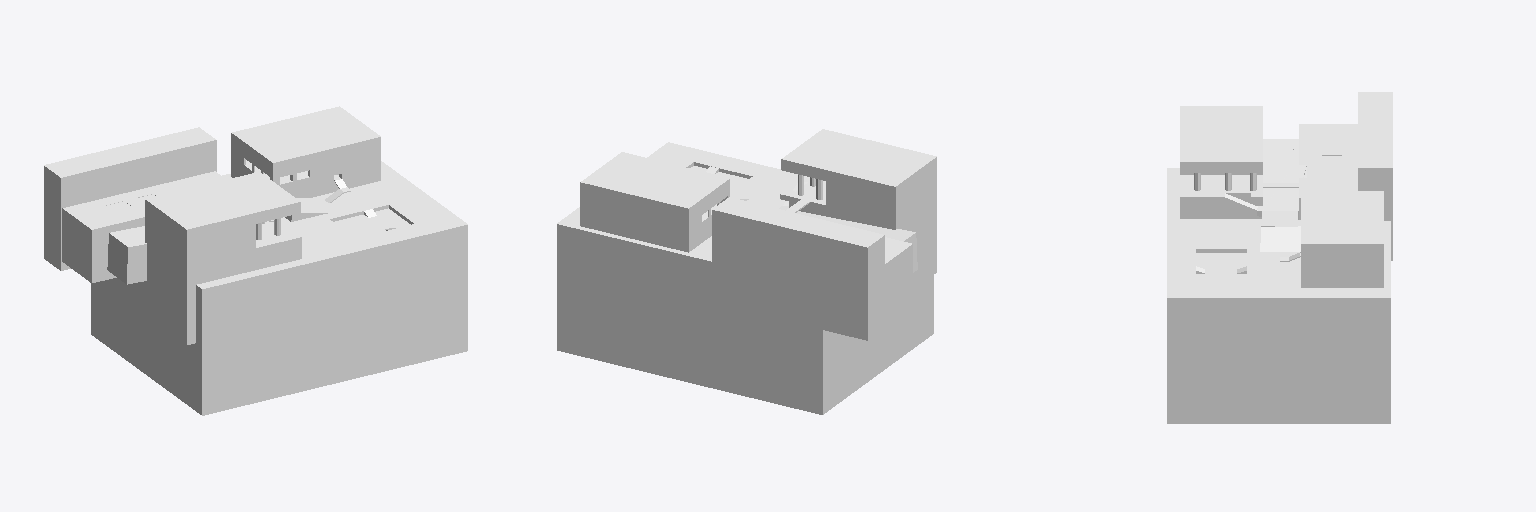
Rendered from CSGCombiner.obj.
The picture shows the model from 3 angles: view 1: azimuth 30°, elevation 25°; view 2: azimuth 150°, elevation 25°; view 3: azimuth 270°, elevation 25°; orthographic projection.
Visible parts, largest first — view 1: CSGCombiner; view 2: CSGCombiner; view 3: CSGCombiner.
Boxes of the visible parts, x1=… form: CSGCombiner: x1=44, y1=106, x2=467, y2=415; CSGCombiner: x1=557, y1=129, x2=936, y2=414; CSGCombiner: x1=1167, y1=92, x2=1392, y2=423.
Size of the model in its own units: 903 by 509 by 565.